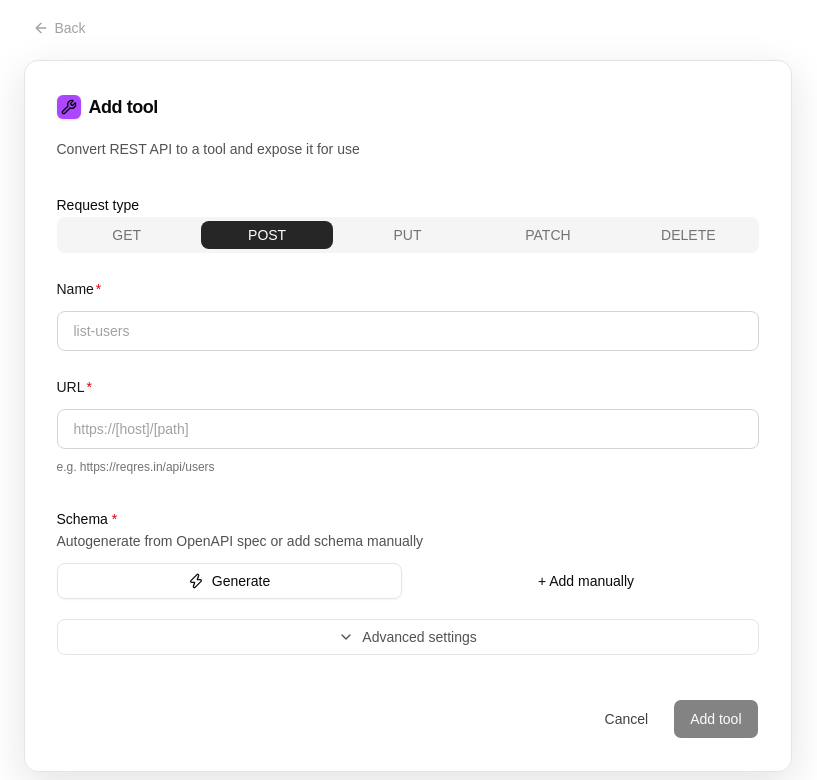
ToolForm › Accessibility – labels and controls › aria-expanded on Advanced settings button toggles correctly
Click the button "Advanced settings" at (408, 637), box [56,619,758,655]
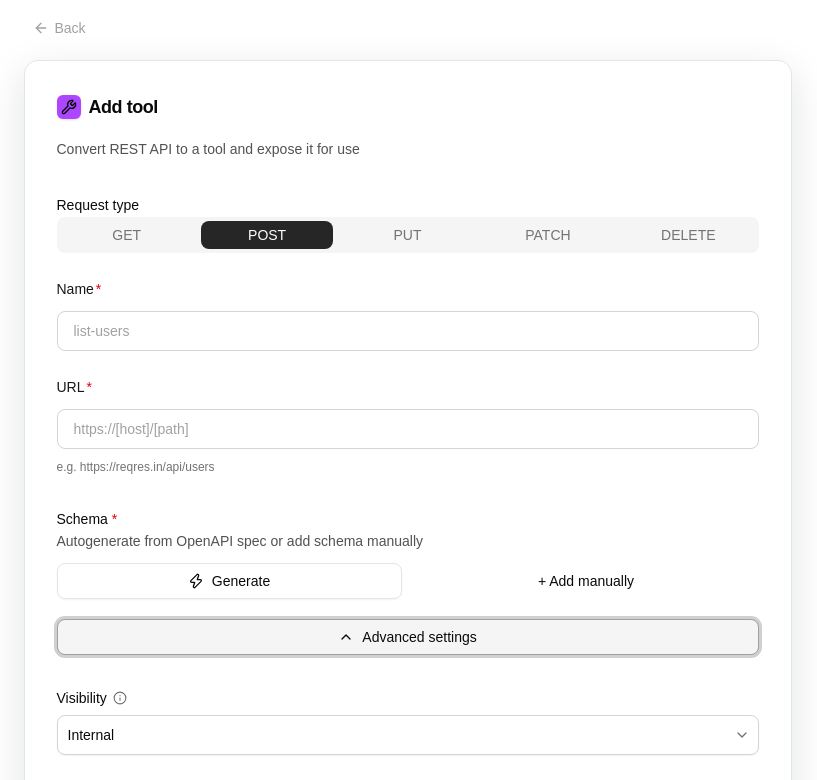
Expected: the button "Advanced settings" is expanded
Click the button "Advanced settings" at (408, 637), box [56,619,758,655]
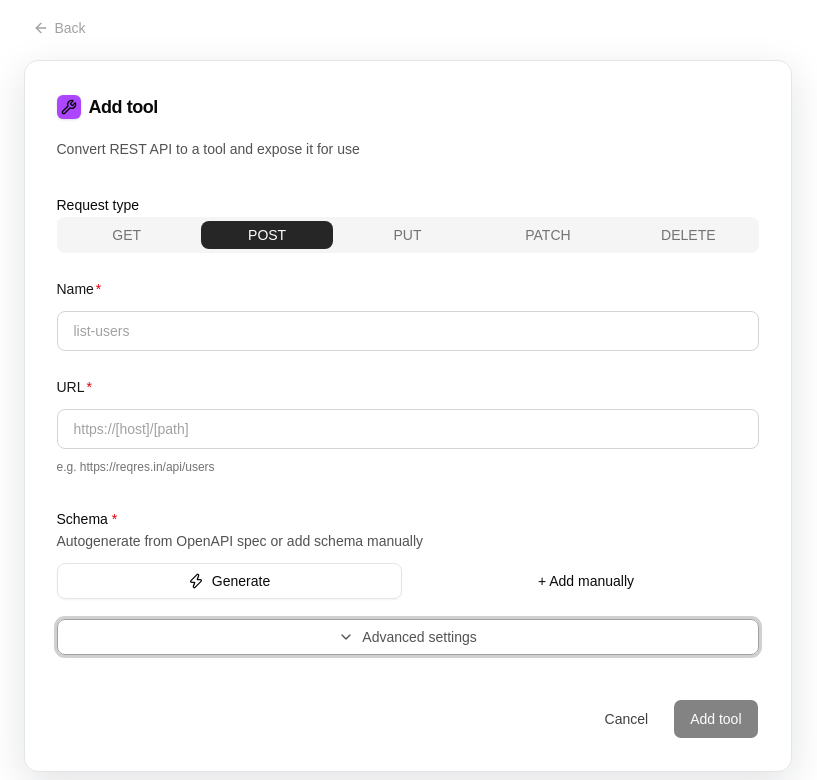
Expected: the button "Advanced settings" is collapsed, [56,619,758,655]
